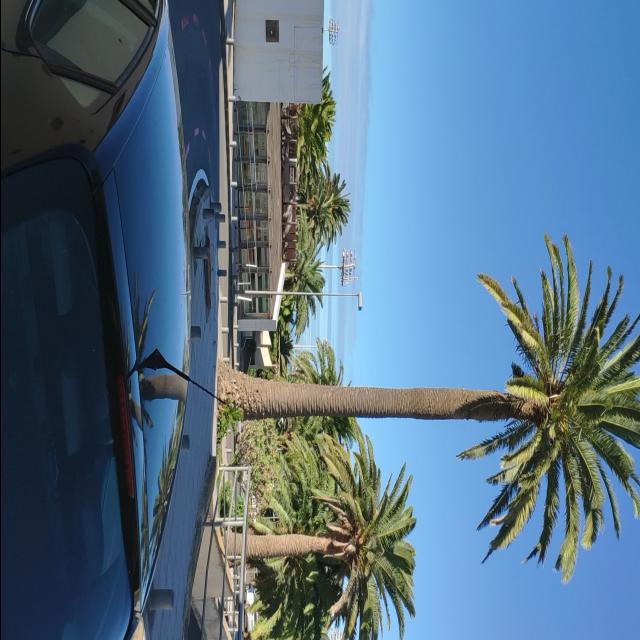Palm-Trees: (223, 270, 640, 535), (229, 452, 419, 640)
